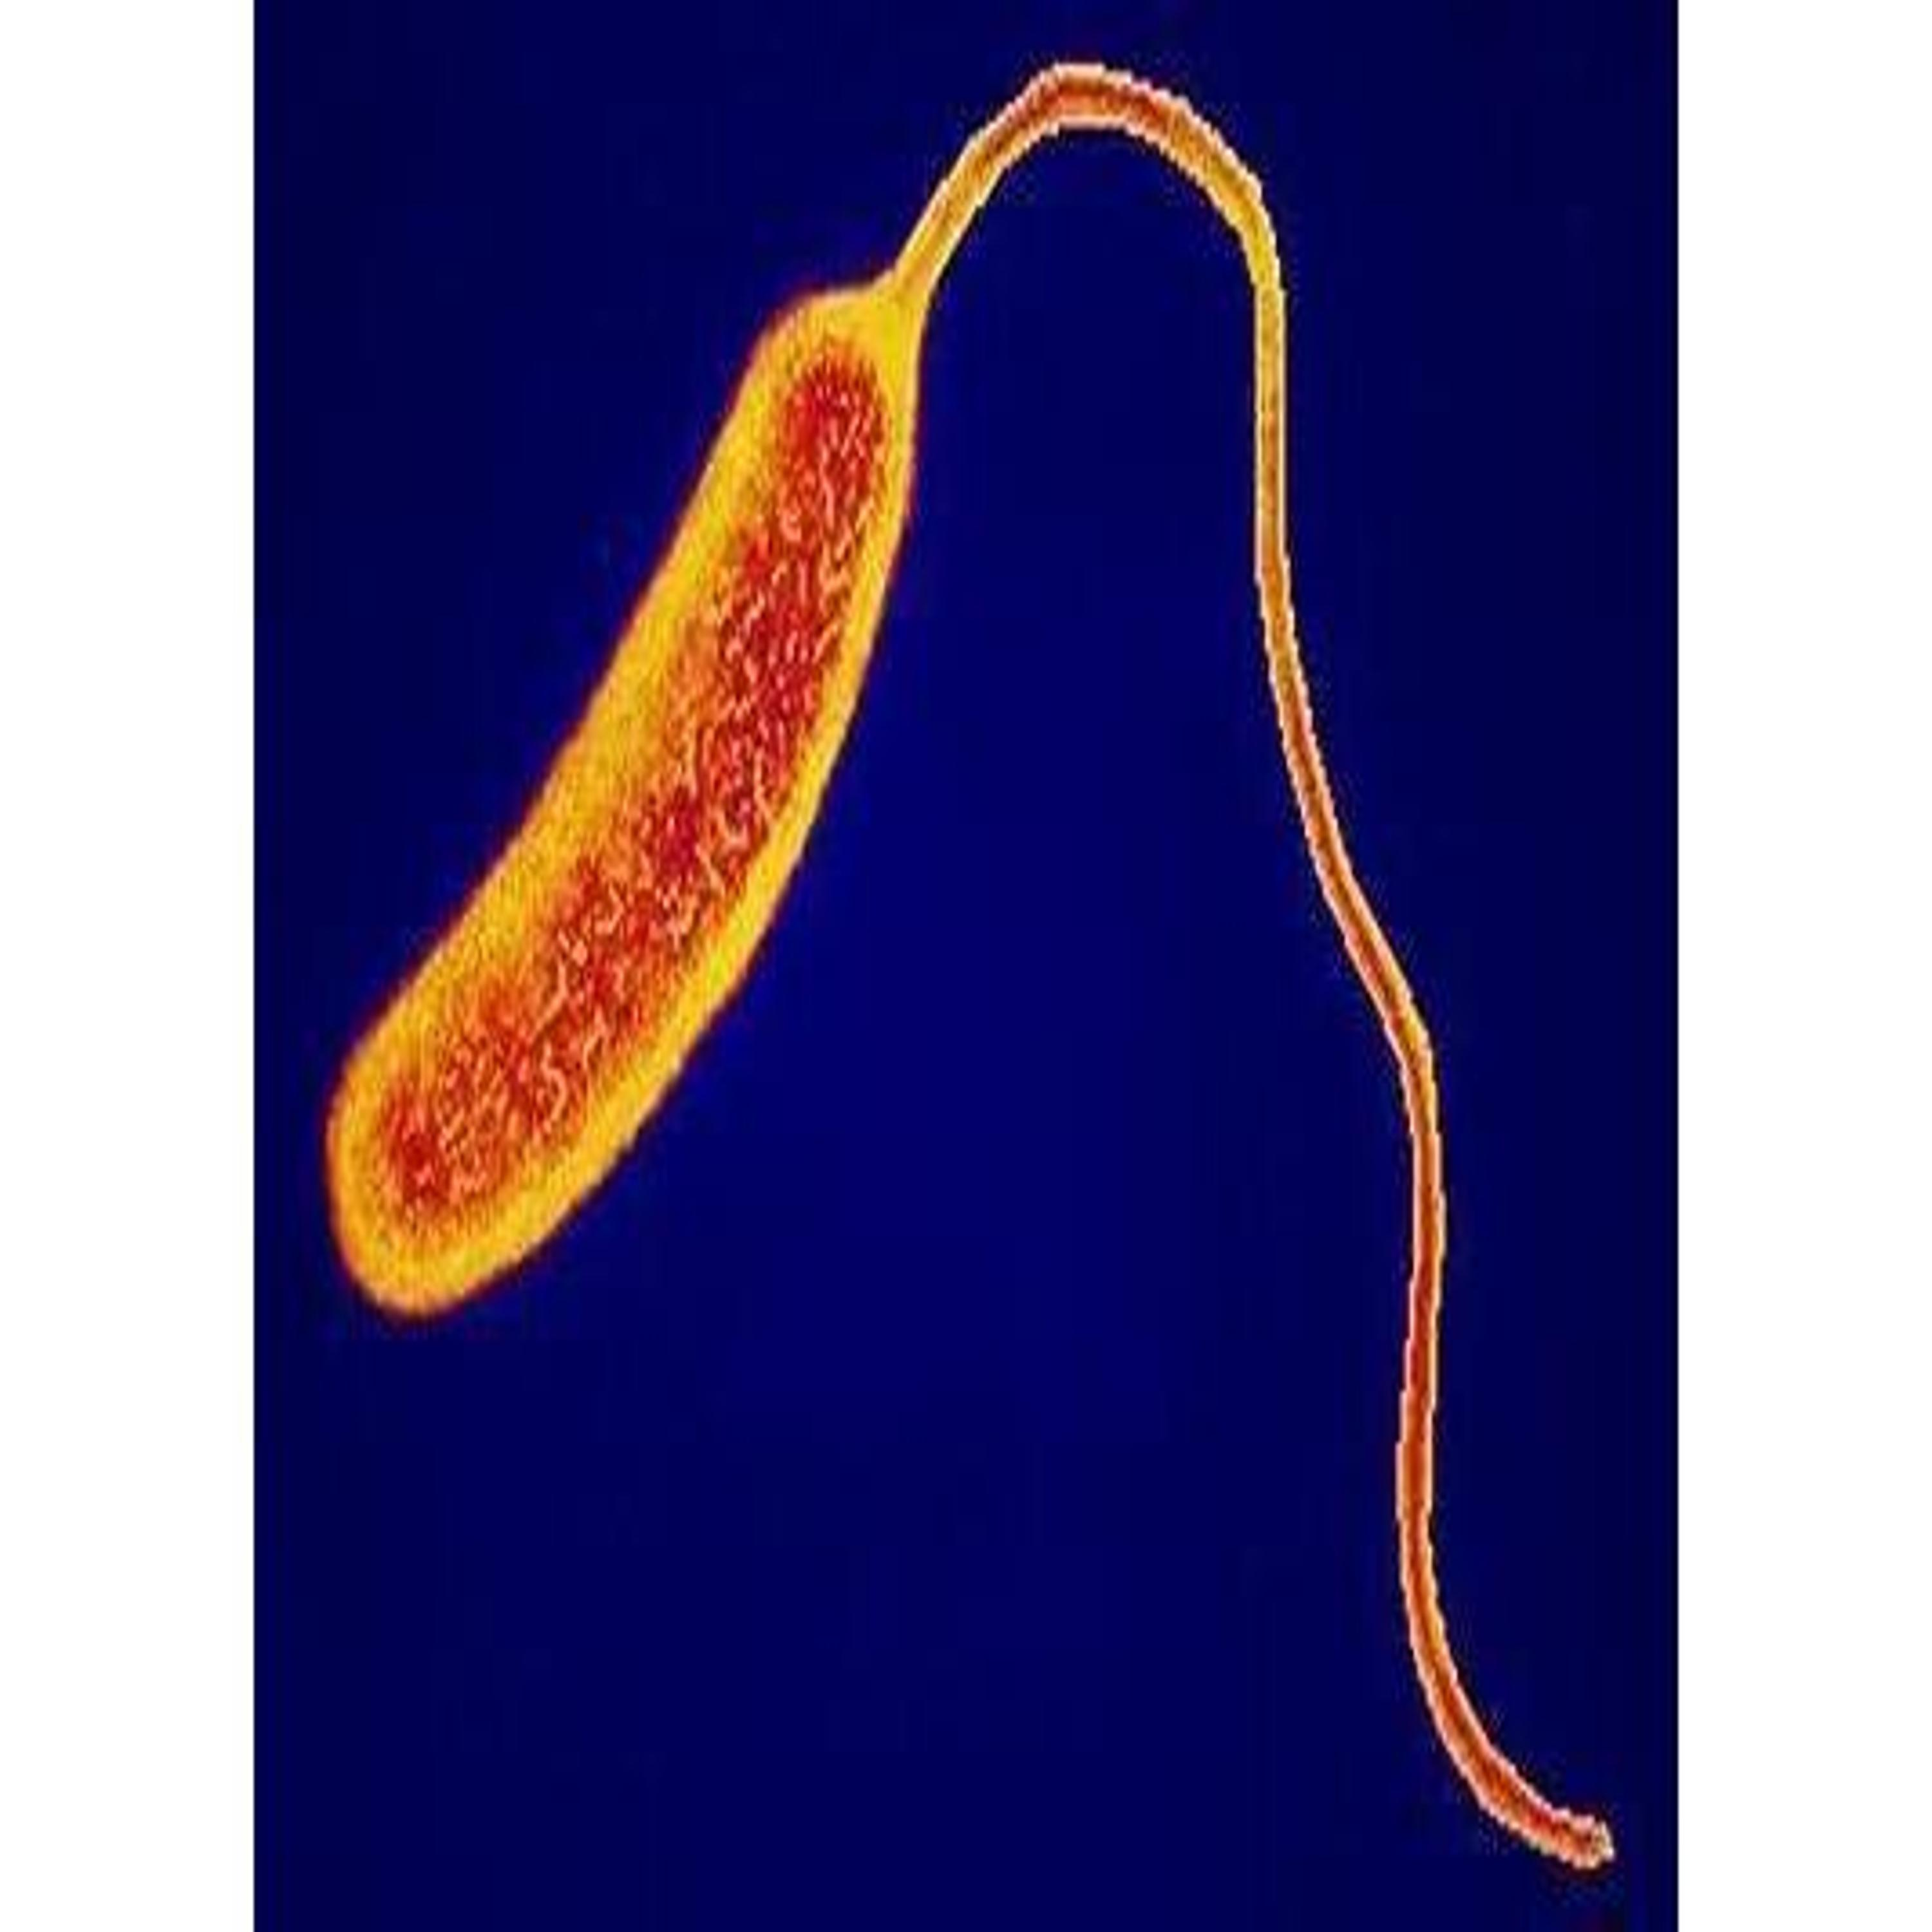Vibrio_cholerae5: (320, 57, 1447, 1362)
